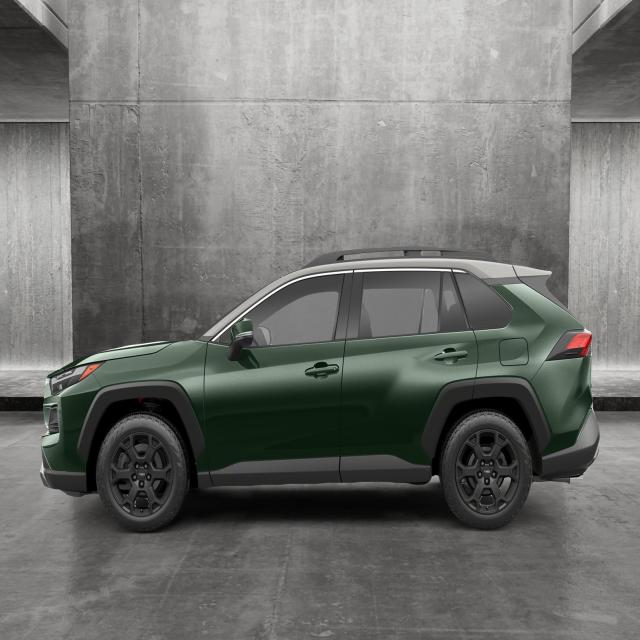light_vehicle: (40, 247, 602, 534)
